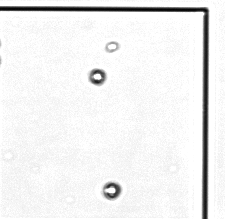Living Cell: (104, 181, 120, 200), (89, 69, 105, 84), (106, 41, 118, 53)
